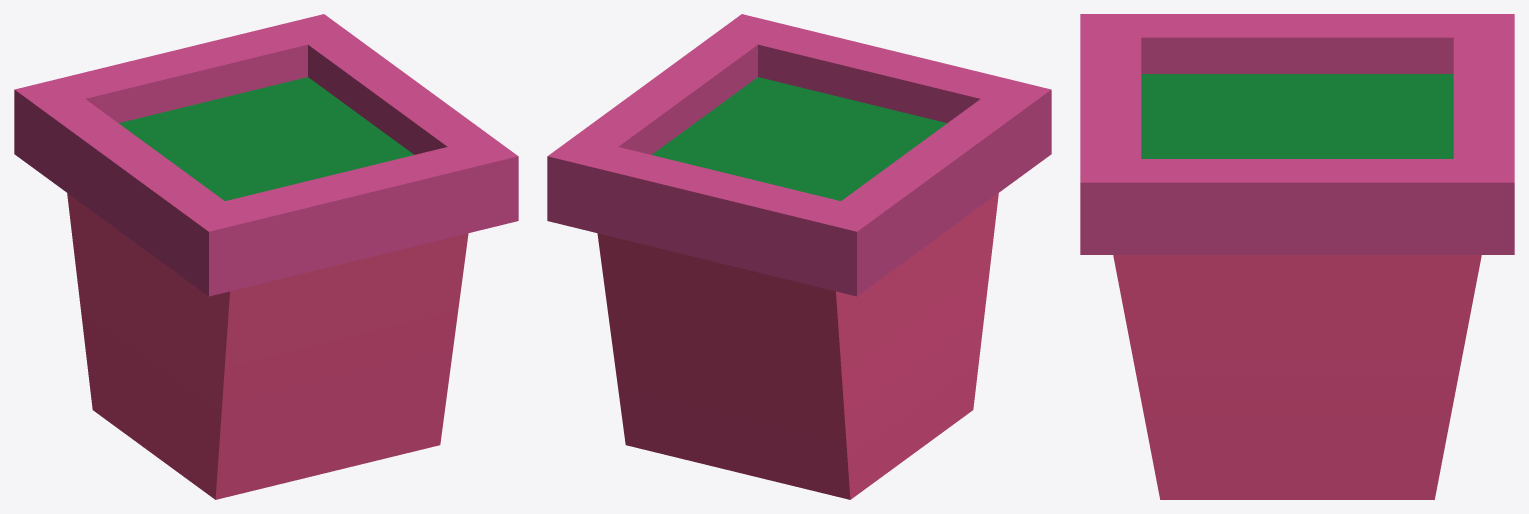
File: FlowerPot_5_3_D.glb
The picture shows the model from 3 angles, left to right: view 1: azimuth 30°, elevation 25°; view 2: azimuth 150°, elevation 25°; view 3: azimuth 270°, elevation 25°; orthographic projection. The views are drawn at different scales.
Visible parts, largest first — view 1: FlowerPot_5_3_D; view 2: FlowerPot_5_3_D; view 3: FlowerPot_5_3_D.
Part boxes in pixels (x1,y1,x2,y2): FlowerPot_5_3_D: (14, 14, 518, 499); FlowerPot_5_3_D: (547, 14, 1051, 499); FlowerPot_5_3_D: (1080, 14, 1514, 499).
Bounding box in the file's own units: 0.3246 × 0.3052 × 0.353.
Materials: 1 (1 with a texture image).
